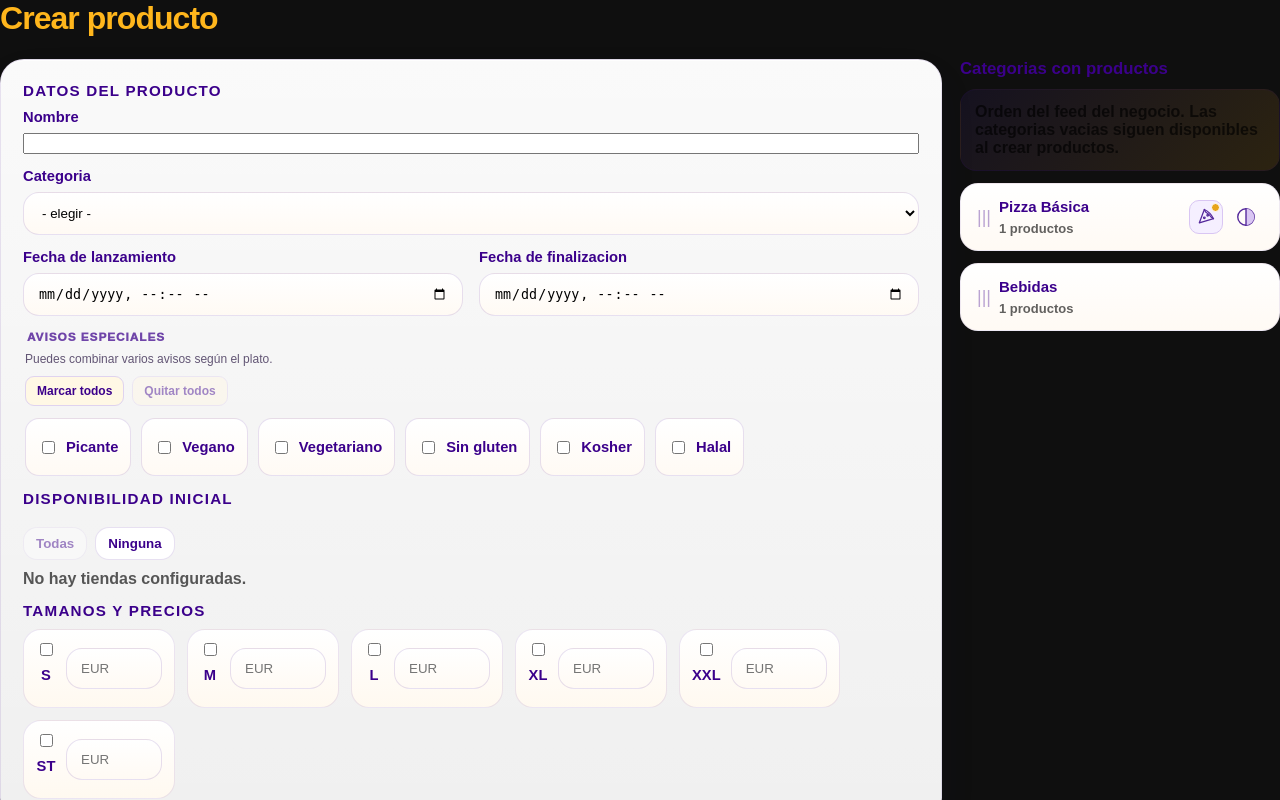
Test: invalid price never saves; server failure retains the entered draft
The image size is (1280, 800).
Click the button named "Configurar precio de la base: Pizza Básica". click: (1206, 217)
box: [1189,200,1223,234]
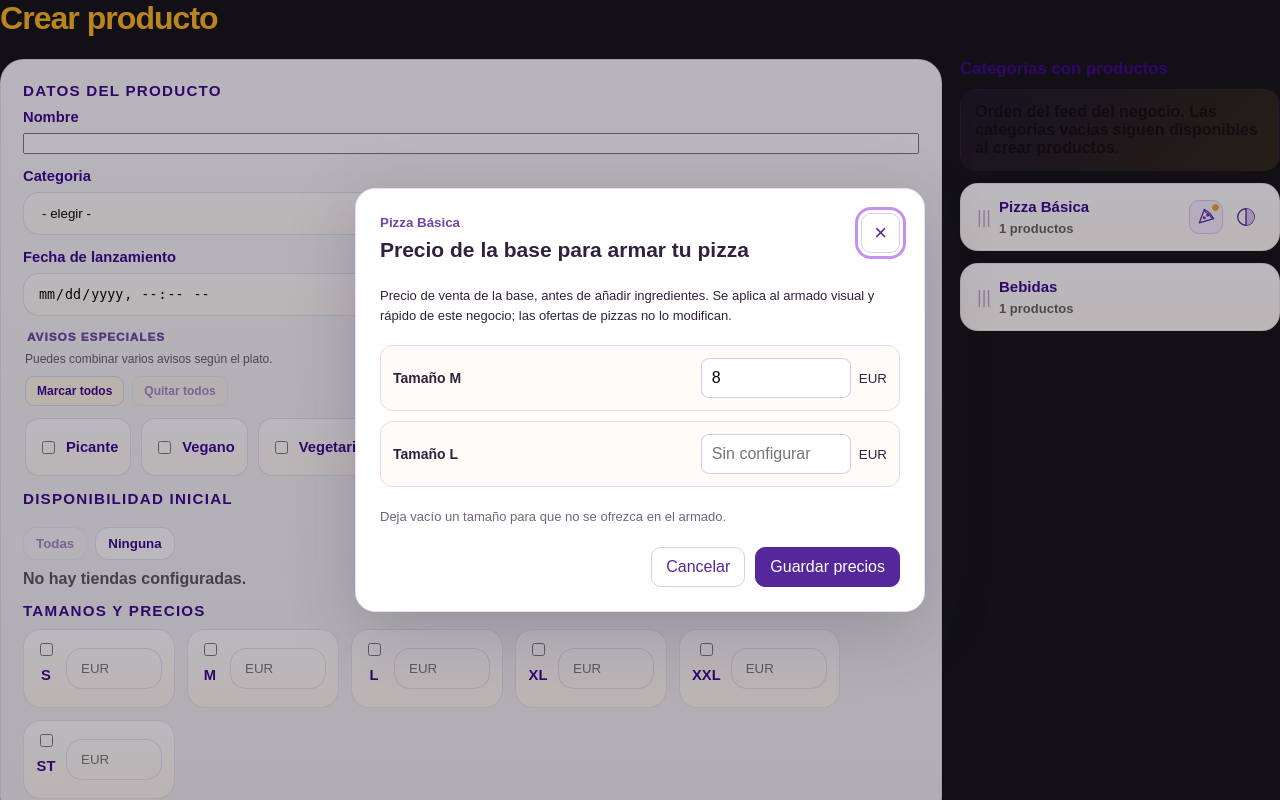
Replace the text in the field named "Precio de la base M" with "-3". click: (776, 378)
box: [701,358,851,398]
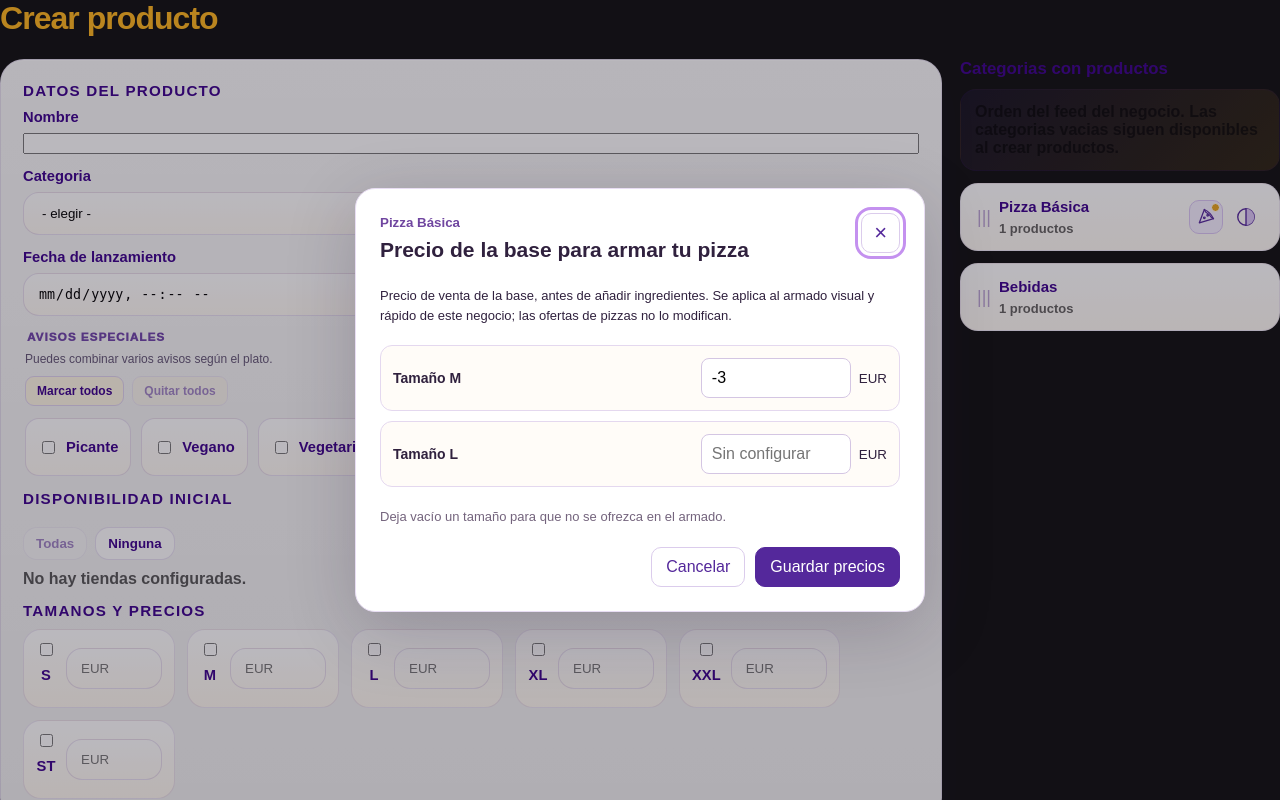
Click the button "Guardar precios". click: (828, 567)
box: [755,547,900,587]
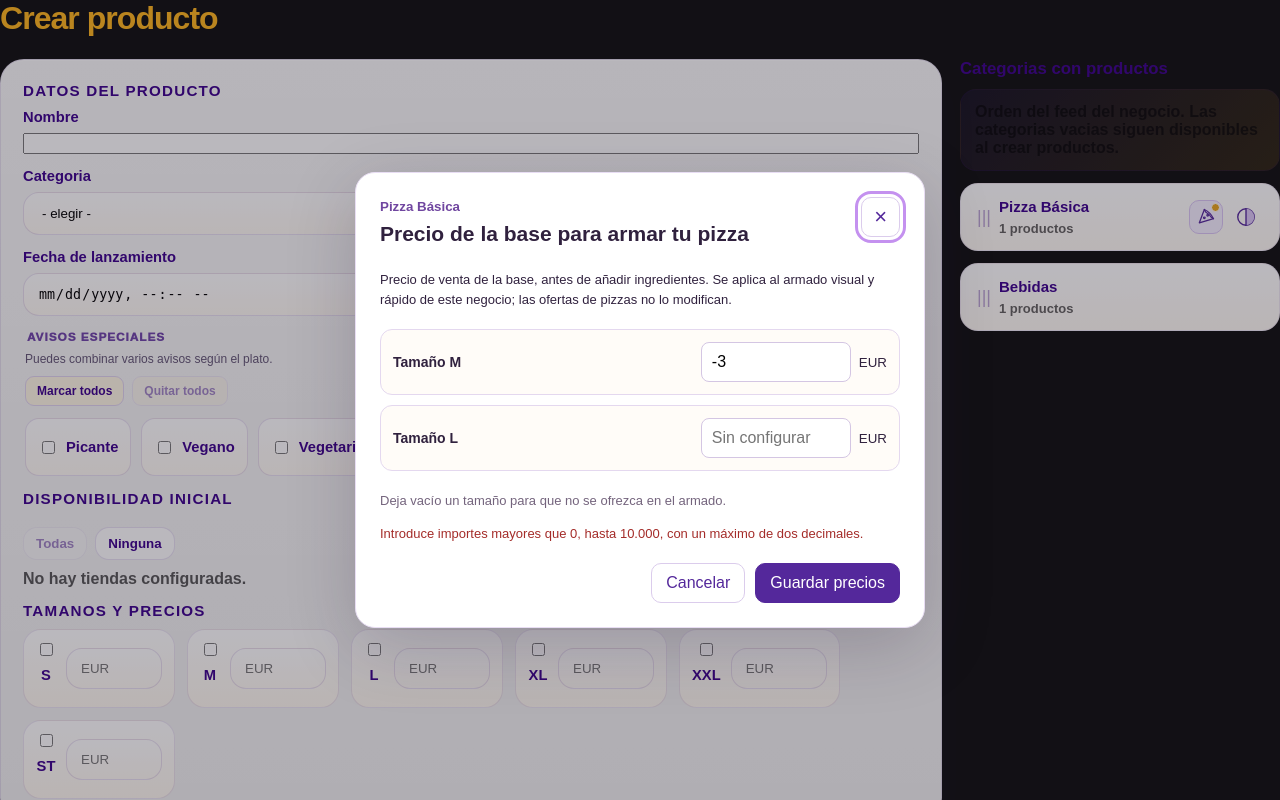
Expected: the message shows "mayores que 0", [380,526,863,541]
Replace the text in the field named "Precio de la base M" with "9". click: (776, 362)
box: [701,342,851,382]
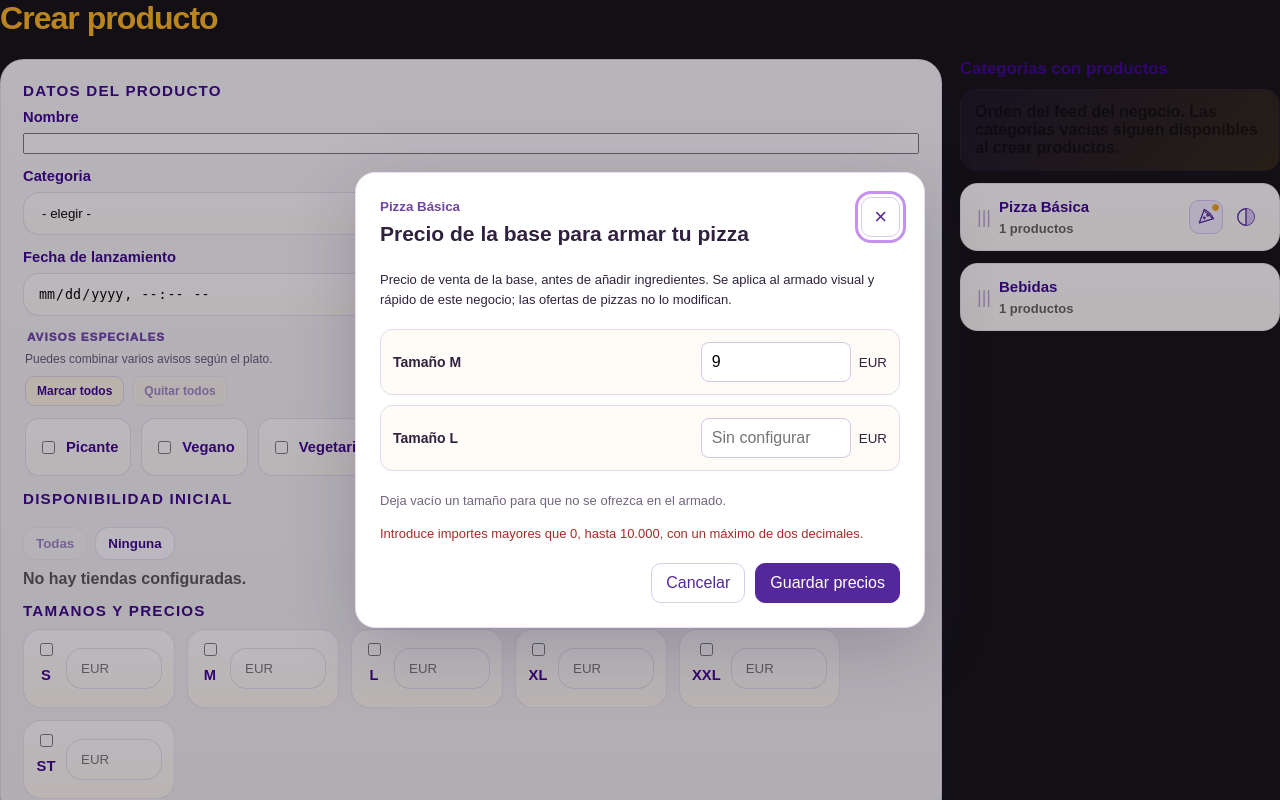
Click the button "Guardar precios". click: (828, 583)
box: [755,563,900,603]
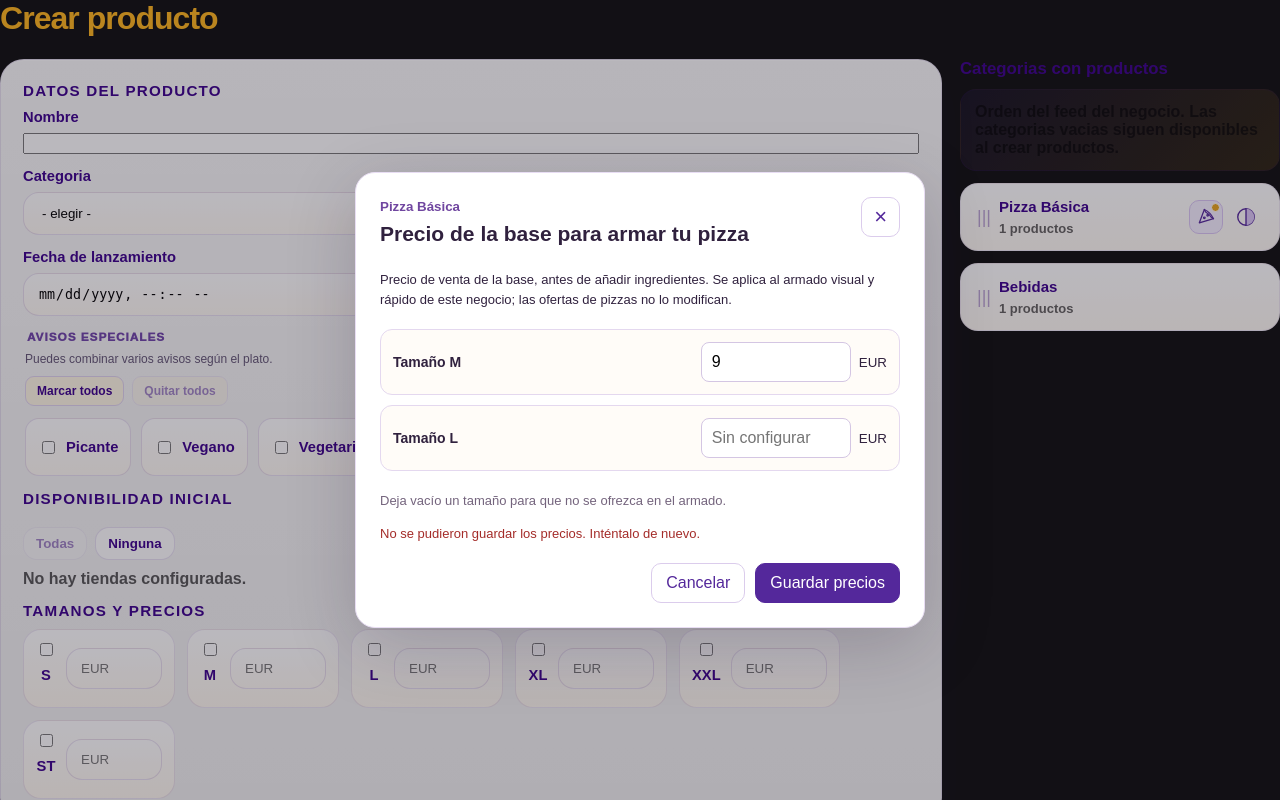
Expected: the message shows "No se pudieron guardar", [380,526,700,541]
